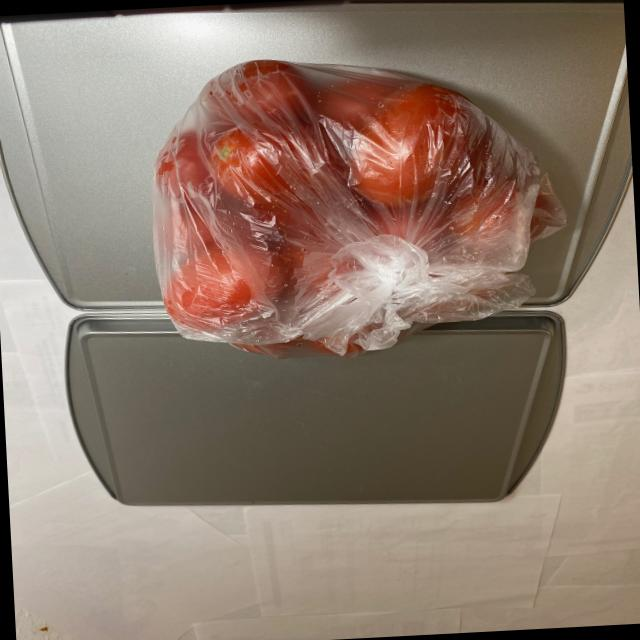tomato: (145, 48, 560, 360)
